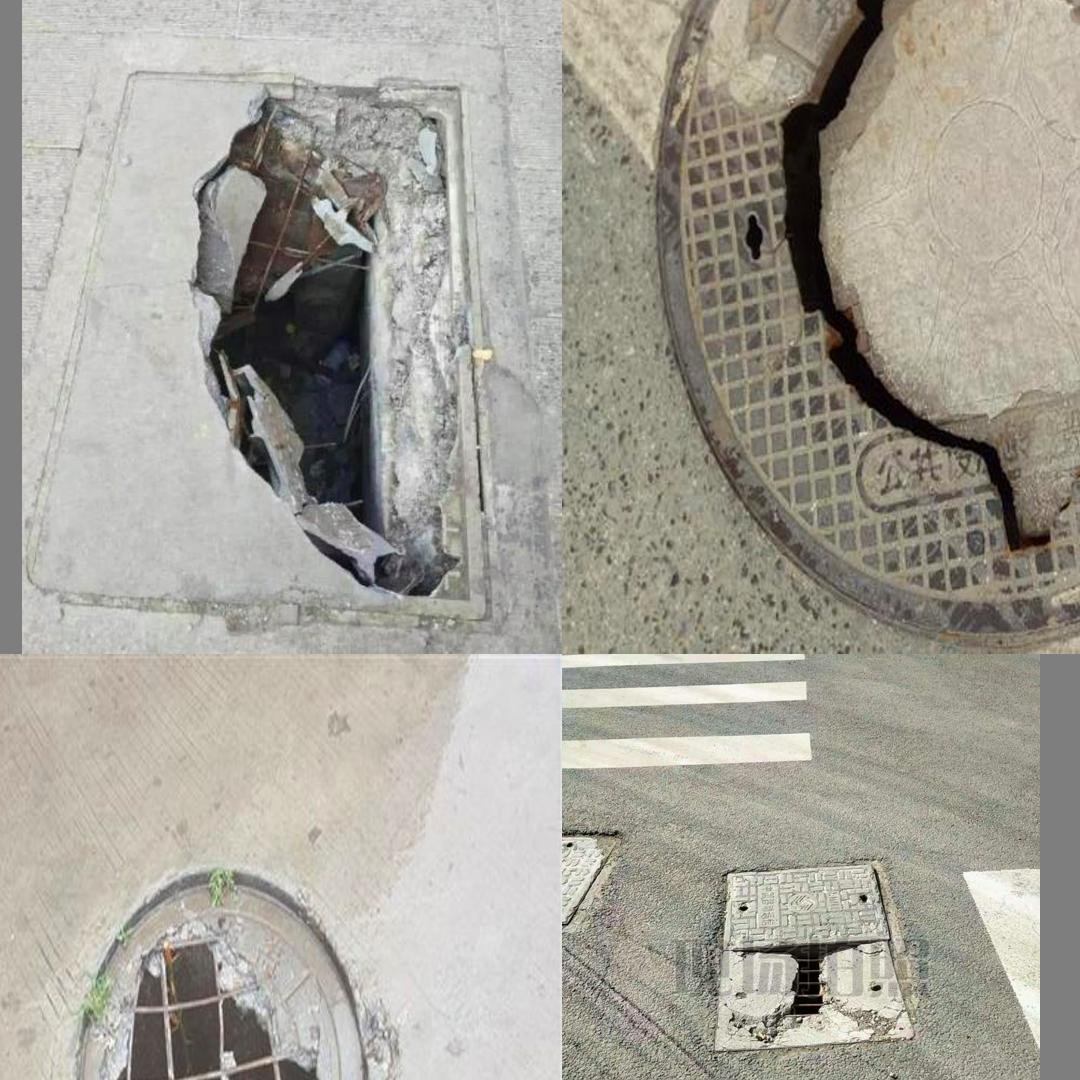broke: (638, 0, 1080, 644), (46, 48, 508, 618), (43, 838, 411, 1080), (712, 864, 917, 1053)
